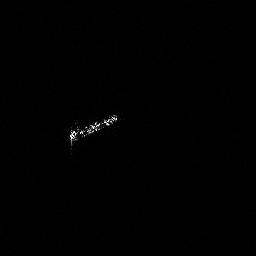ship: (68, 110, 119, 153)
